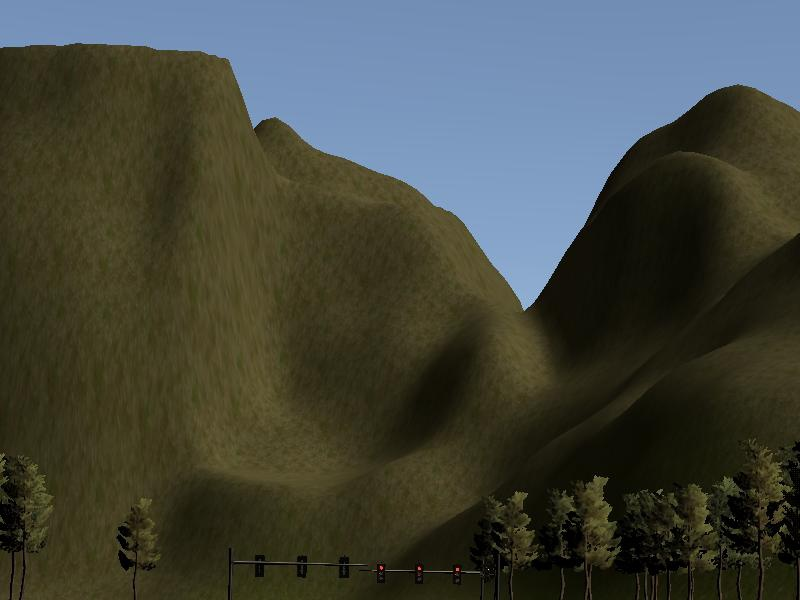Red: (415, 565, 423, 584)
